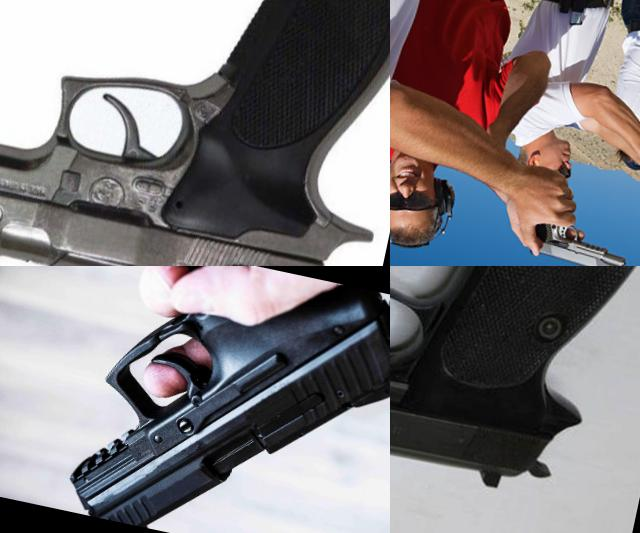handgun: (0, 0, 390, 266), (59, 266, 390, 533), (390, 266, 640, 515), (517, 204, 634, 266)
